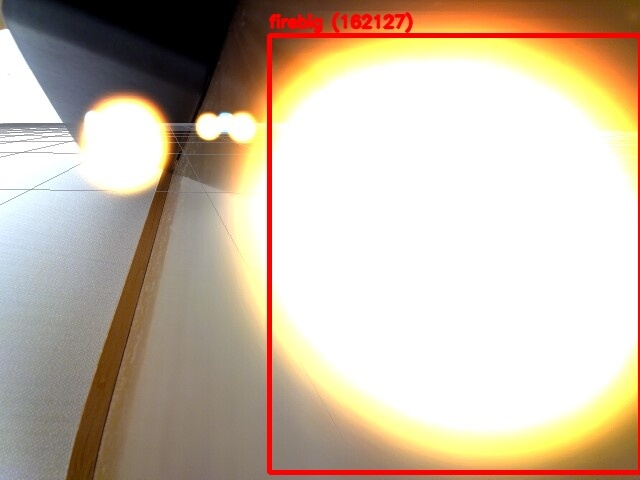firebig: (269, 35, 640, 472)
